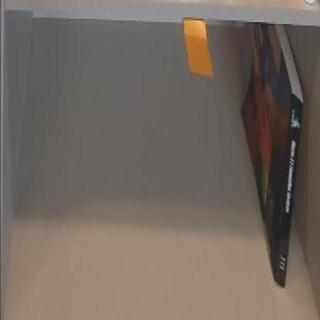book-spine: (274, 98, 304, 289)
